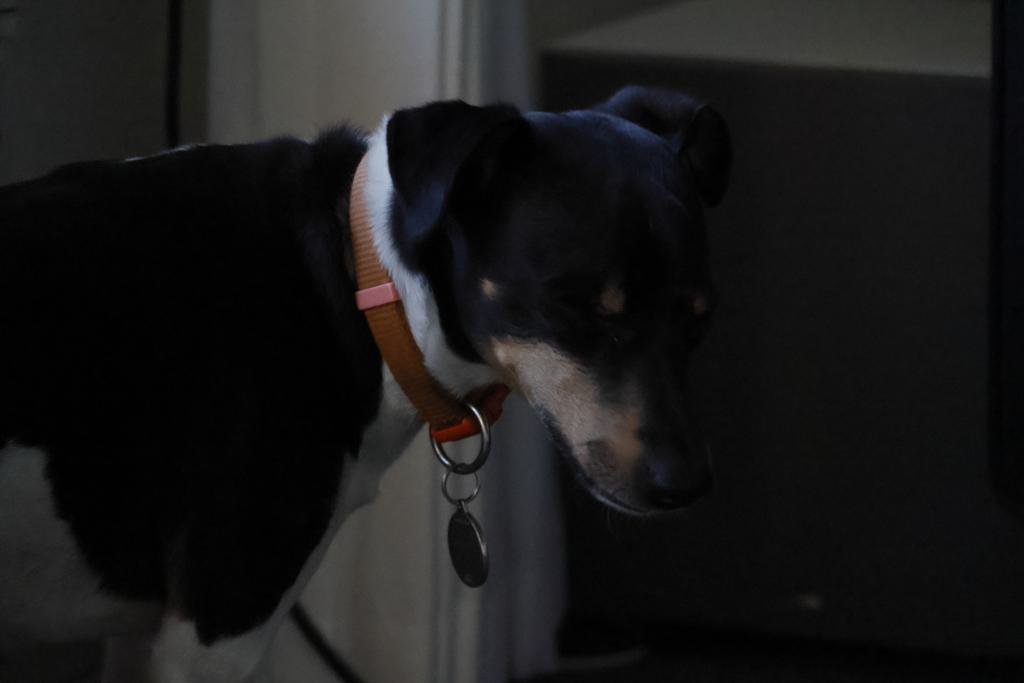Dog: (0, 69, 759, 683)
